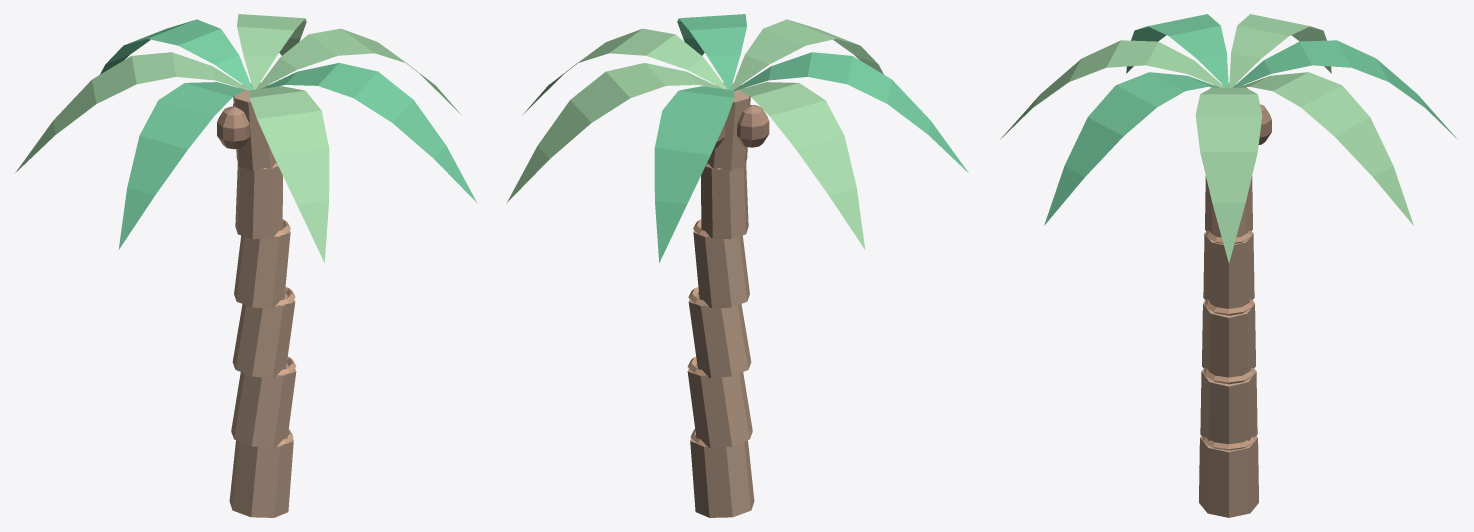
Rendered from palmera.glb.
3 renders of one model, left to right at view 1: azimuth 30°, elevation 25°; view 2: azimuth 150°, elevation 25°; view 3: azimuth 270°, elevation 25°, orthographic.
Visible parts, largest first — view 1: palmera; view 2: palmera; view 3: palmera.
Part boxes in pixels (x1=…): palmera: x1=15, y1=14, x2=477, y2=517; palmera: x1=506, y1=14, x2=968, y2=517; palmera: x1=1000, y1=14, x2=1457, y2=517.
Bounding box in the file's own units: 4.18 × 4.53 × 4.29.
